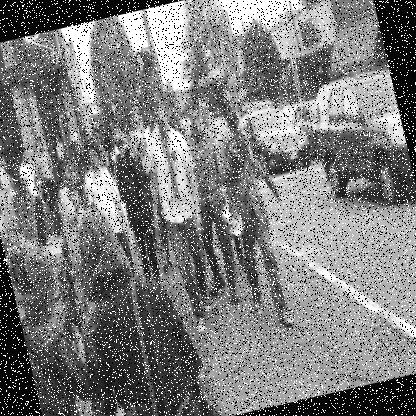Car: (292, 51, 415, 223), (238, 98, 316, 180), (286, 95, 328, 162), (0, 173, 29, 255)
